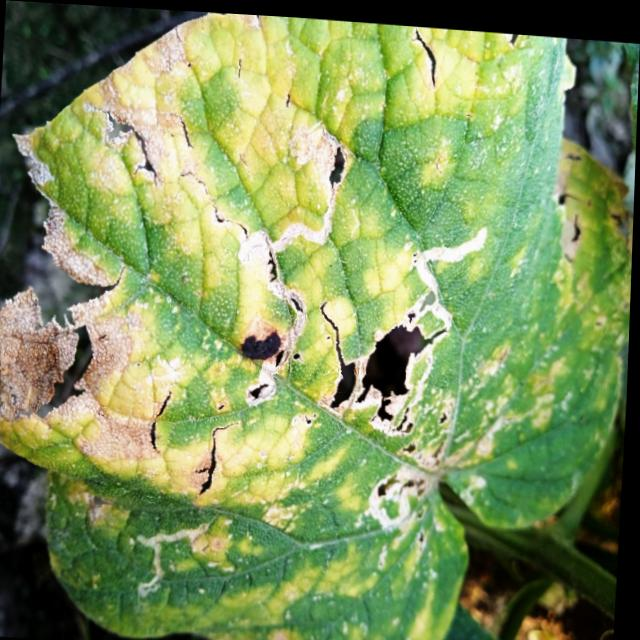Anthracnose: (304, 292, 456, 459), (86, 99, 165, 187), (220, 324, 301, 405), (325, 137, 354, 205)
